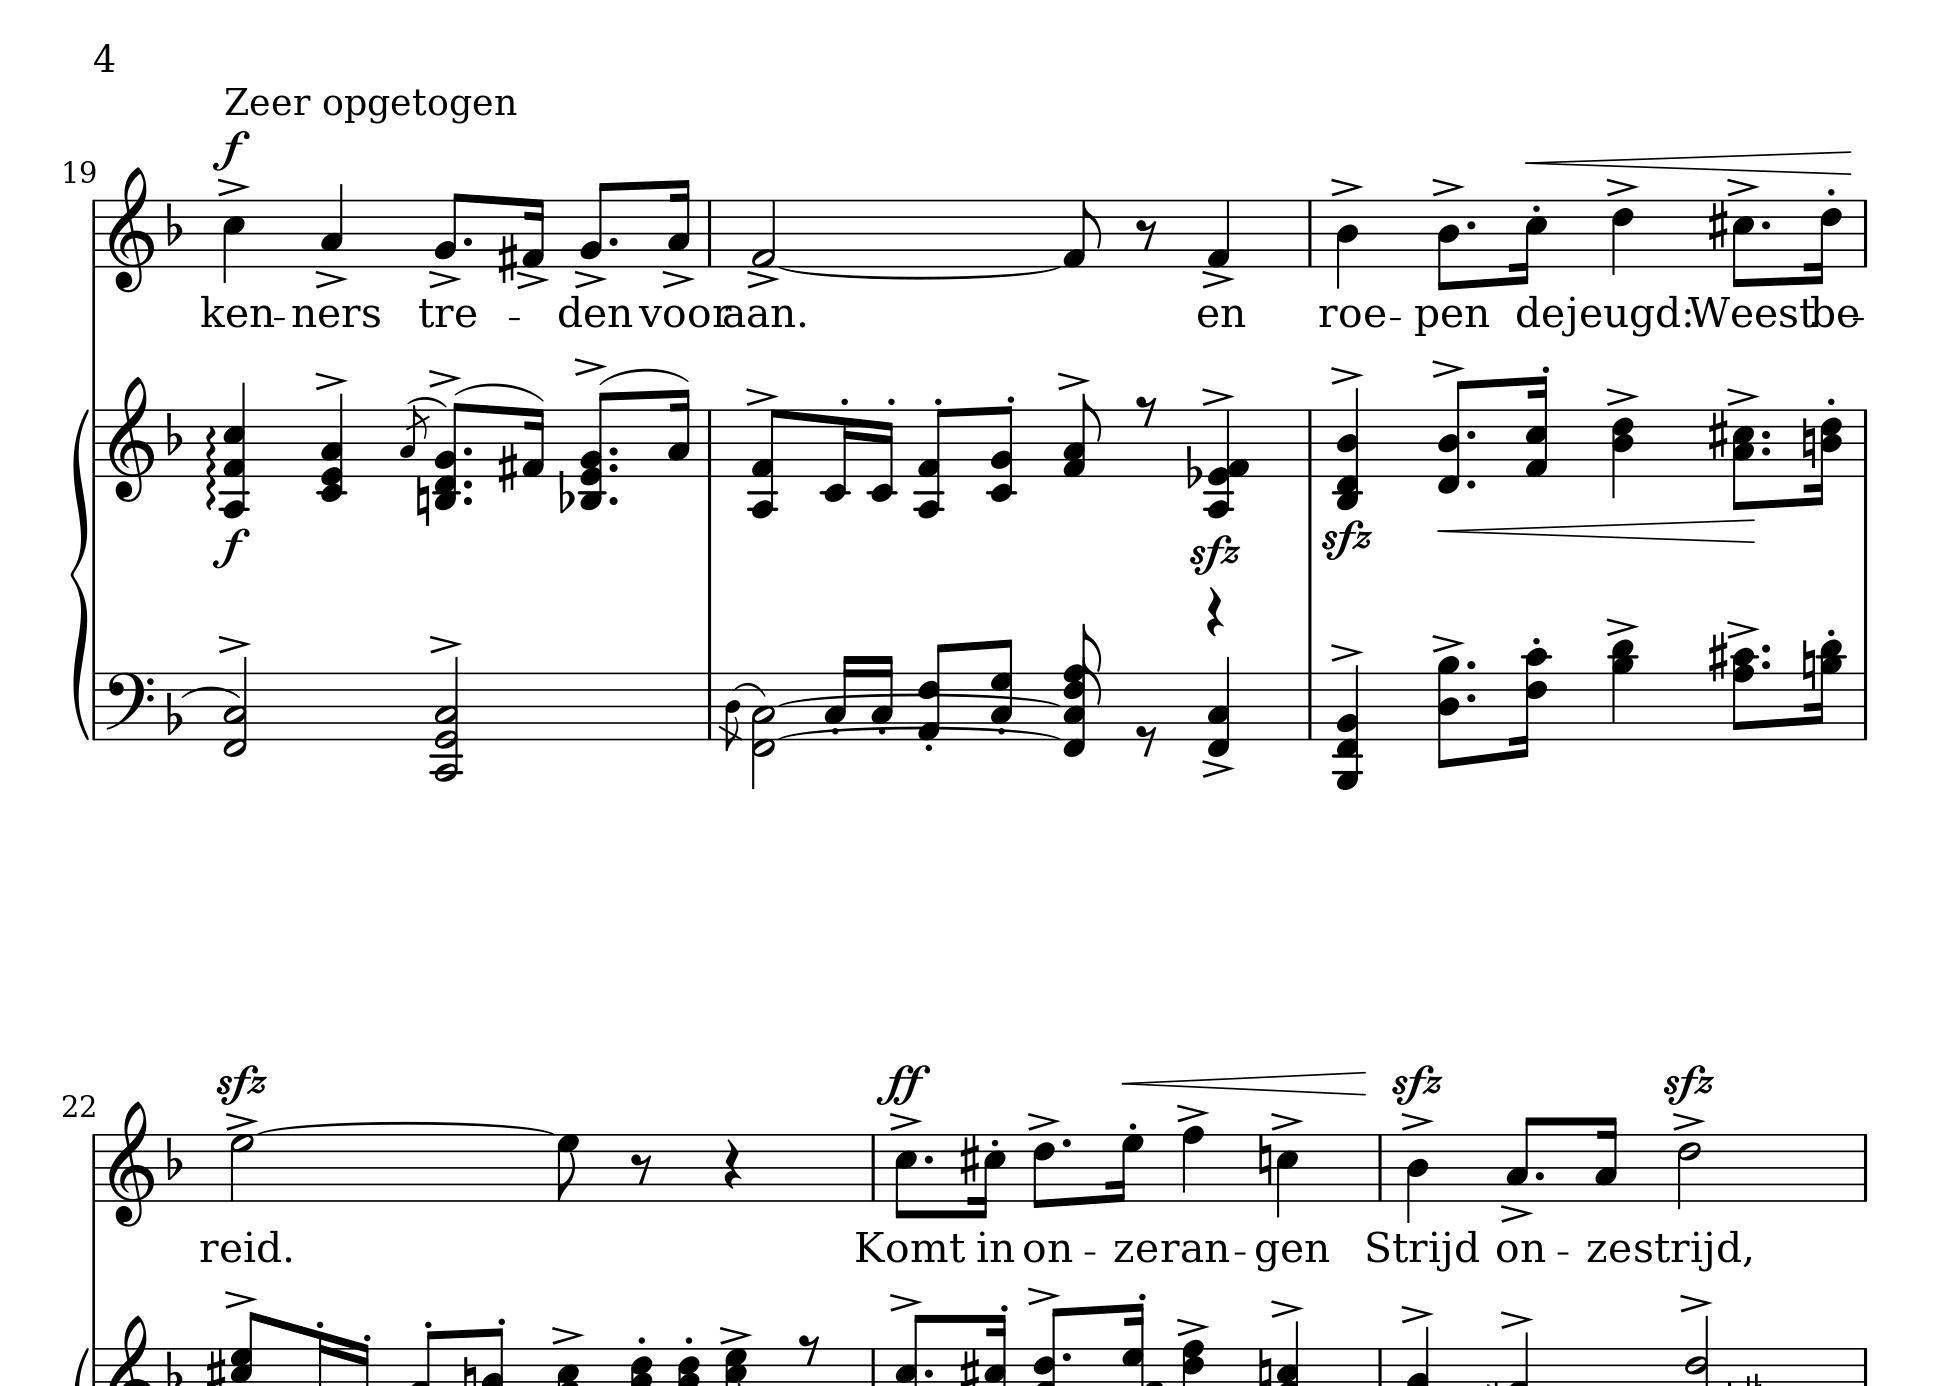1: (61, 156, 76, 186)
16_-2: (820, 409, 853, 502), (868, 408, 895, 502)
16_1: (520, 196, 546, 270), (520, 406, 546, 478)
16_1_5: (1527, 372, 1551, 480)
16_2: (823, 652, 855, 739)
16_3: (1593, 1113, 1620, 1203), (666, 175, 691, 267), (666, 387, 691, 478), (870, 652, 895, 741)
16_4_6: (1813, 408, 1845, 505)
16_5: (1510, 199, 1548, 286), (970, 1134, 1006, 1221)
16_6: (1806, 196, 1843, 285)
16_6_10: (1510, 646, 1554, 759)
16_7: (1107, 1131, 1144, 1204)
16_9_11: (1815, 637, 1849, 741)
2: (60, 1092, 78, 1117), (78, 1092, 96, 1117)
2_-1_3: (750, 672, 777, 793), (223, 655, 247, 757)
2_1: (750, 196, 778, 268)
2_6: (1677, 1132, 1702, 1210)
2_7: (228, 1132, 255, 1203)
2_th: (430, 654, 463, 784)
4: (93, 40, 117, 73)
4_-1_3: (1206, 655, 1233, 760)
4_1: (1206, 198, 1233, 268)
4_3: (319, 181, 345, 267)
4_4: (1405, 1132, 1431, 1224), (1335, 196, 1359, 289)
4_5: (220, 198, 246, 285), (1275, 1132, 1300, 1219)
4_6: (1611, 198, 1635, 277)
4_6_8: (1611, 408, 1635, 501)
4_8: (1180, 1123, 1204, 1204)
4_9_11: (1608, 637, 1638, 742)
4_th: (1203, 405, 1251, 522), (1332, 385, 1366, 511), (1333, 661, 1365, 790), (220, 378, 247, 520), (316, 390, 346, 502)
8_-1_4: (1437, 378, 1468, 495)
8_-2_2: (985, 403, 1021, 504)
8_-4_1: (747, 406, 796, 519), (913, 406, 952, 520)
8_1: (1062, 198, 1104, 268)
8_1_3: (1062, 394, 1105, 478)
8_1_6: (916, 642, 952, 741)
8_2: (577, 180, 610, 267), (433, 190, 465, 268)
8_3: (1504, 1113, 1539, 1203)
8_3_5: (1731, 408, 1755, 514)
8_3_7: (990, 637, 1014, 742)
8_4: (1435, 196, 1461, 292)
8_4_9: (1437, 654, 1462, 769)
8_5: (892, 1132, 918, 1221), (1731, 198, 1755, 289)
8_6: (1032, 1131, 1056, 1210)
8_7: (555, 1132, 580, 1201)
8_8_10: (1731, 646, 1759, 742)
8_th: (577, 390, 610, 511), (433, 400, 465, 511)
9: (78, 154, 97, 184)
Accent_above: (1056, 367, 1092, 390), (1200, 384, 1236, 406), (1269, 1296, 1305, 1318), (1603, 175, 1641, 196), (1329, 363, 1363, 385), (1605, 384, 1639, 406), (1725, 384, 1759, 406), (427, 631, 462, 654), (1500, 1306, 1534, 1329), (214, 175, 250, 196), (1431, 175, 1467, 196), (1725, 175, 1761, 196), (1200, 268, 1236, 289), (571, 355, 607, 376), (1431, 631, 1467, 652), (1200, 757, 1236, 778), (1269, 1110, 1305, 1131), (1677, 1291, 1713, 1312), (1329, 175, 1363, 196), (1431, 357, 1465, 378), (427, 367, 462, 388), (313, 369, 348, 390), (1605, 616, 1639, 637), (1725, 616, 1759, 637), (1329, 640, 1363, 661), (1174, 1315, 1209, 1336), (549, 1324, 583, 1345), (427, 268, 463, 288), (1174, 1102, 1210, 1122), (1026, 1110, 1062, 1129), (886, 1111, 922, 1131), (1671, 1111, 1707, 1131), (886, 1291, 922, 1311), (516, 268, 549, 289), (661, 268, 694, 289), (217, 631, 250, 652), (313, 268, 348, 288), (744, 385, 778, 405), (1399, 1111, 1434, 1131), (1498, 1203, 1533, 1222), (222, 1288, 256, 1308), (1399, 1303, 1434, 1323), (223, 1111, 259, 1129), (1026, 1285, 1062, 1303), (574, 268, 607, 288), (718, 1324, 751, 1344), (745, 270, 780, 288)
Acciaccature: (397, 403, 430, 478)
Arpeggio: (204, 424, 219, 510)
Brace: (67, 403, 88, 744)
Crescendo_hairpin: (1525, 150, 1852, 177), (1437, 517, 1756, 544), (1120, 1069, 1368, 1099)
Fclef: (103, 670, 154, 742)
Flat: (163, 199, 184, 249), (163, 409, 184, 457), (163, 688, 184, 736), (163, 1134, 184, 1180), (556, 468, 576, 514), (1185, 442, 1203, 490)
Gclef: (106, 373, 154, 502), (106, 1099, 154, 1227), (106, 166, 154, 292)
Natural: (414, 472, 432, 528), (1800, 415, 1818, 469), (1801, 637, 1818, 691), (1257, 1132, 1273, 1186), (460, 1354, 478, 1386)
Rests4: (721, 1137, 742, 1191), (1204, 586, 1225, 639)
Rests8: (1134, 721, 1161, 757), (1134, 393, 1159, 427), (628, 1150, 652, 1185), (1134, 217, 1158, 250), (796, 1332, 820, 1365)
Sharp: (1705, 408, 1729, 462), (958, 1132, 981, 1186), (1707, 630, 1729, 682), (496, 231, 517, 285), (1707, 199, 1728, 252), (496, 441, 517, 493), (204, 1347, 228, 1386), (958, 1345, 981, 1386)
Single_barline: (85, 1132, 103, 1201), (1857, 1132, 1875, 1201), (700, 199, 718, 267), (1302, 409, 1320, 477), (1302, 673, 1320, 738), (85, 198, 102, 267), (1302, 199, 1318, 267), (1857, 409, 1873, 475), (1857, 673, 1873, 739), (1858, 199, 1873, 267), (865, 1134, 880, 1200), (702, 672, 717, 736), (88, 408, 102, 475), (703, 409, 717, 475), (88, 672, 102, 738), (1374, 1134, 1387, 1198), (1857, 1348, 1873, 1384)
Slur: (255, 1117, 553, 1135), (775, 267, 1071, 282), (772, 694, 1068, 709), (778, 726, 1063, 741), (454, 381, 544, 402), (598, 366, 690, 385), (180, 685, 241, 700), (405, 394, 448, 409), (732, 681, 766, 694)
dot: (1059, 1134, 1074, 1150), (919, 1150, 934, 1167), (1464, 217, 1479, 232), (460, 475, 475, 490), (1464, 657, 1479, 672), (1464, 690, 1479, 705), (1759, 217, 1773, 232), (1758, 427, 1773, 441), (460, 442, 474, 457), (1759, 444, 1774, 457), (1465, 475, 1479, 490), (460, 493, 475, 507), (607, 493, 621, 508), (1759, 640, 1773, 655), (1060, 1348, 1074, 1363), (607, 442, 619, 457), (607, 234, 619, 247), (460, 235, 474, 247), (1465, 427, 1479, 439), (607, 460, 619, 474), (1759, 658, 1773, 670), (1533, 1168, 1545, 1182), (921, 1366, 934, 1378)
f: (211, 526, 253, 570), (211, 129, 250, 169)
ff: (876, 1063, 930, 1105)
sfz: (1318, 517, 1377, 562), (210, 1060, 268, 1105), (1663, 1057, 1717, 1105), (1392, 1062, 1446, 1108), (1188, 531, 1242, 574)
